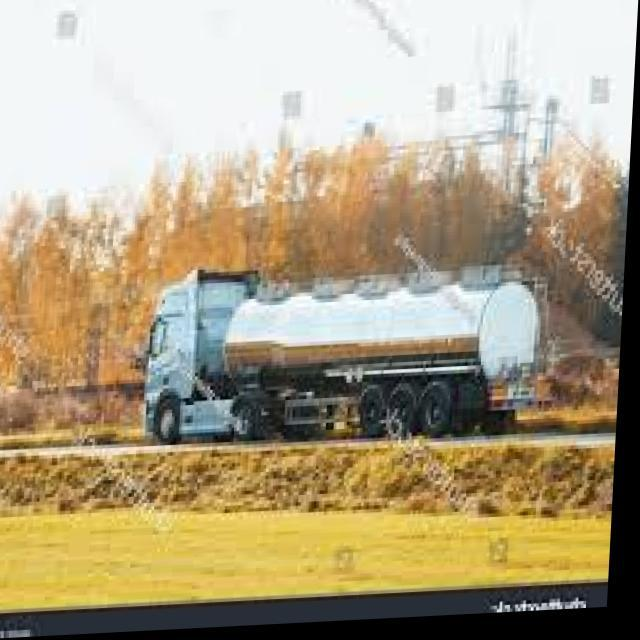covered: (142, 250, 556, 452)
